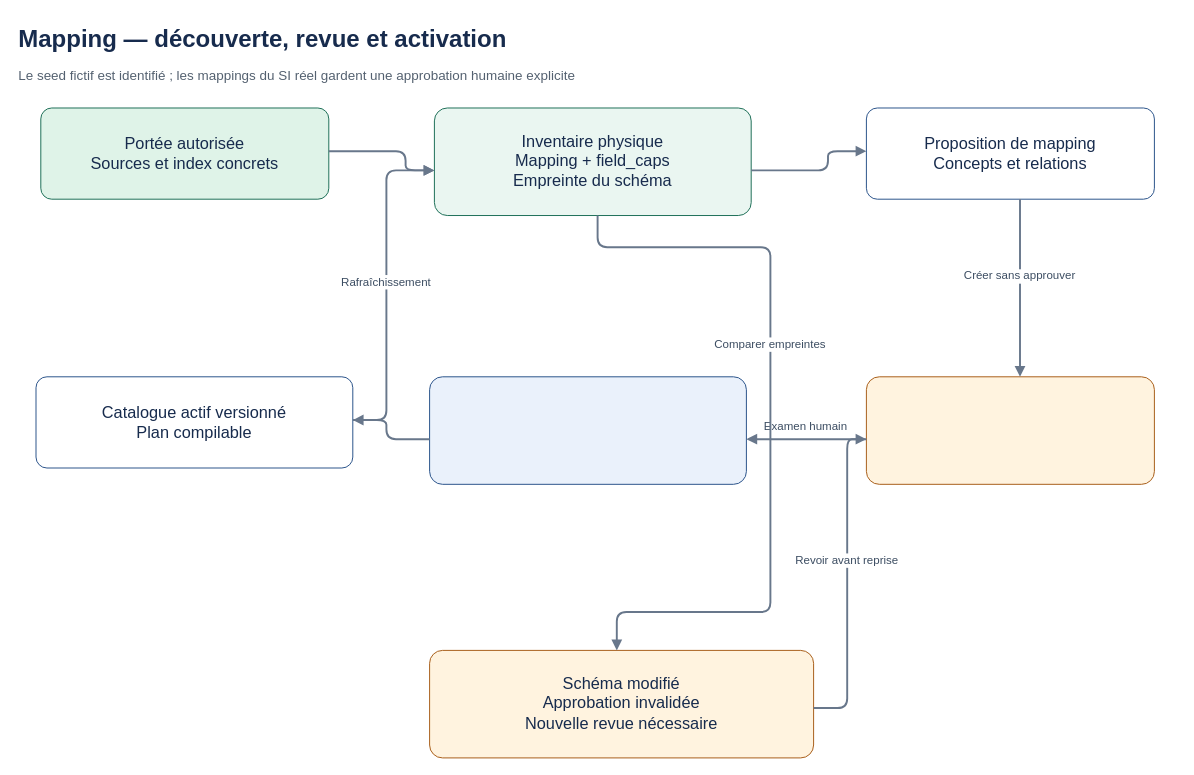
Some shapes in this 1194 by 775 pixel diagram are drawn without their labels. Each missing label, with the box of its shape:
Opérateur interne Relit puis approuve Auteur et motif: (429, 376, 746, 484)
Revue en attente Types, sens et portée Essais DSL bornés: (865, 376, 1154, 484)
